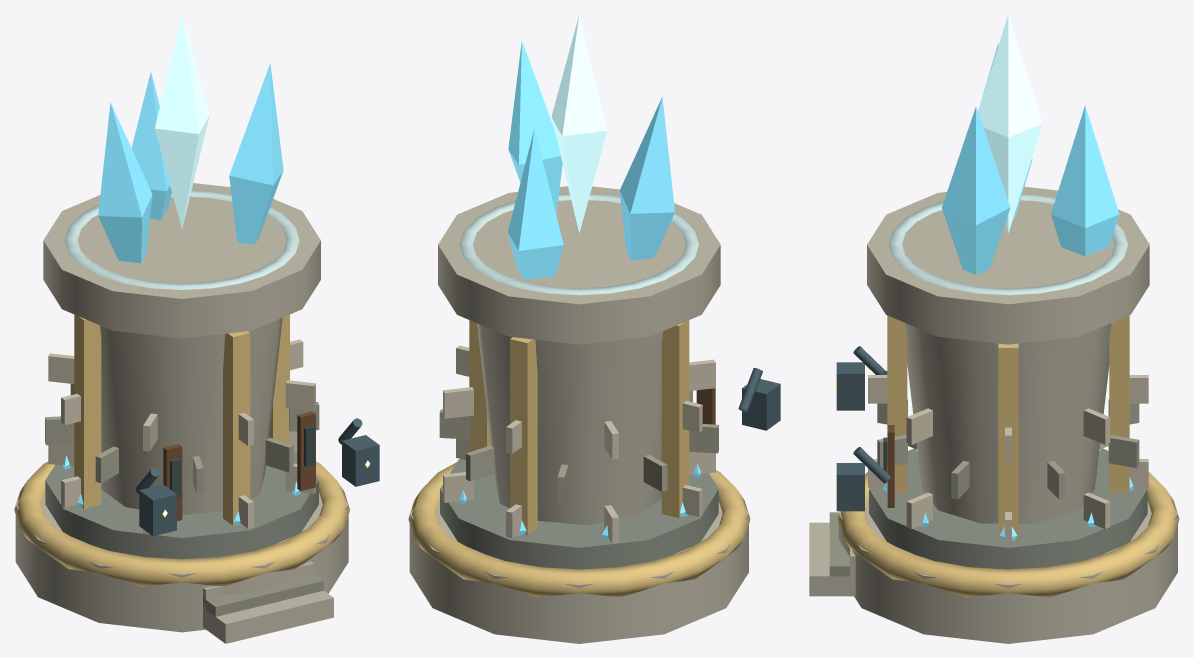
File: tower-frost-1-base.glb
3 views of the same model, side by side, from view 1: azimuth 30°, elevation 25°; view 2: azimuth 150°, elevation 25°; view 3: azimuth 270°, elevation 25° (orthographic).
Visible parts, largest first — view 1: Foundation, Turret, frost-L1-base; view 2: Foundation, Turret, frost-L1-base; view 3: Foundation, Turret, frost-L1-base.
Boxes of the visible parts, bbox=[...] form: Foundation: bbox=[14, 314, 379, 643]; Turret: bbox=[43, 14, 320, 338]; frost-L1-base: bbox=[15, 451, 348, 632]; Foundation: bbox=[408, 320, 780, 597]; Turret: bbox=[438, 14, 720, 344]; frost-L1-base: bbox=[409, 459, 748, 643]; Foundation: bbox=[809, 315, 1179, 597]; Turret: bbox=[867, 14, 1149, 344]; frost-L1-base: bbox=[838, 448, 1177, 643].
Size of the model in its own units: 1.69 by 3.05 by 1.83.
